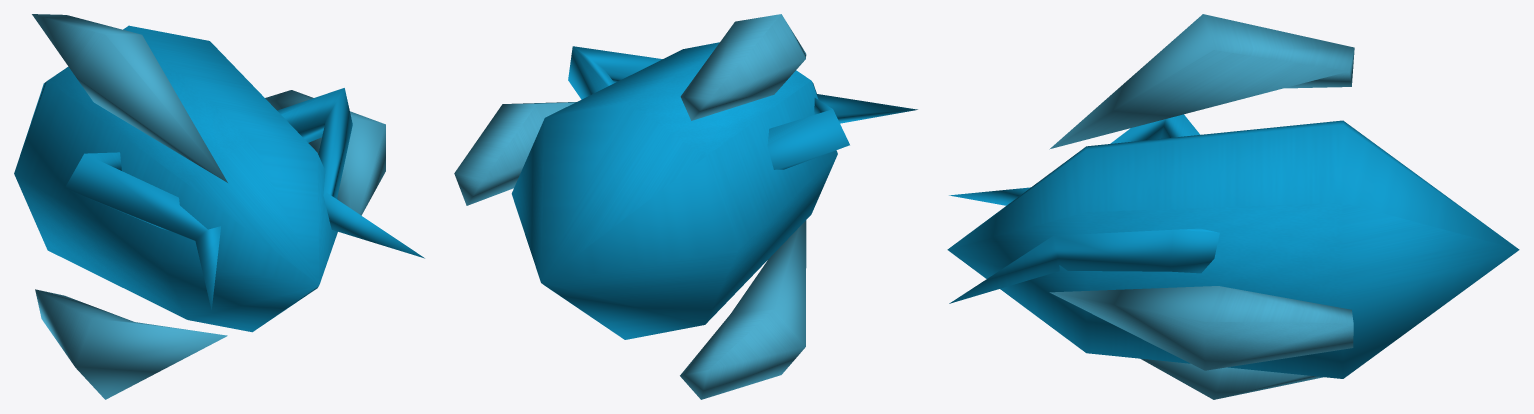
The model's file is SM_storm_projectile_LOD1.fbx.
3 renders of one model, left to right at view 1: azimuth 30°, elevation 25°; view 2: azimuth 150°, elevation 25°; view 3: azimuth 270°, elevation 25°, orthographic. The views are drawn at different scales.
Visible parts, largest first — view 1: SM_storm_projectile_LOD1; view 2: SM_storm_projectile_LOD1; view 3: SM_storm_projectile_LOD1.
Boxes of the visible parts, x1,y1,x2,y2 form: SM_storm_projectile_LOD1: (14, 14, 424, 399); SM_storm_projectile_LOD1: (454, 14, 917, 399); SM_storm_projectile_LOD1: (947, 14, 1519, 399).
Size of the model in its own units: 0.22 by 0.312 by 0.2282.
